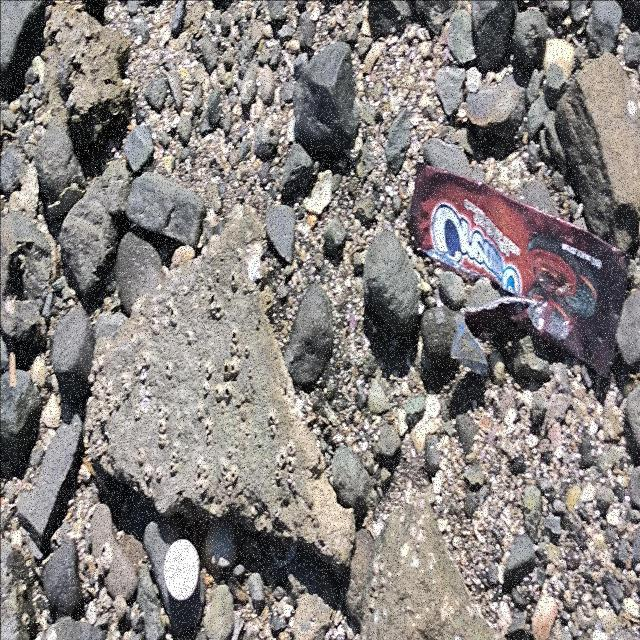plastic_waste: (409, 160, 631, 380)
